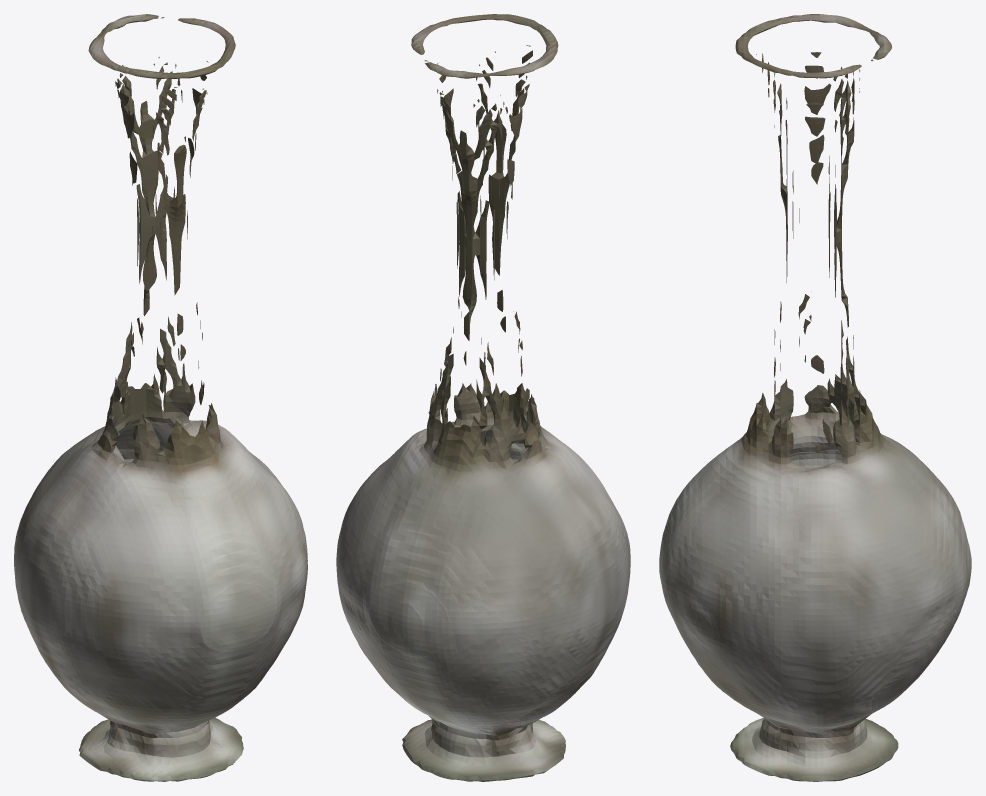
Rendered from vase.glb.
3 views of the same model, side by side, from view 1: azimuth 30°, elevation 25°; view 2: azimuth 150°, elevation 25°; view 3: azimuth 270°, elevation 25° (orthographic).
Visible parts, largest first — view 1: tmp1kes9guv.ply; view 2: tmp1kes9guv.ply; view 3: tmp1kes9guv.ply.
Part boxes in pixels (x1,y1,x2,y2): tmp1kes9guv.ply: (14,14,307,781); tmp1kes9guv.ply: (336,14,630,781); tmp1kes9guv.ply: (659,14,971,781).
Bounding box in the file's own units: 0.7479 × 1.98 × 0.7971.
